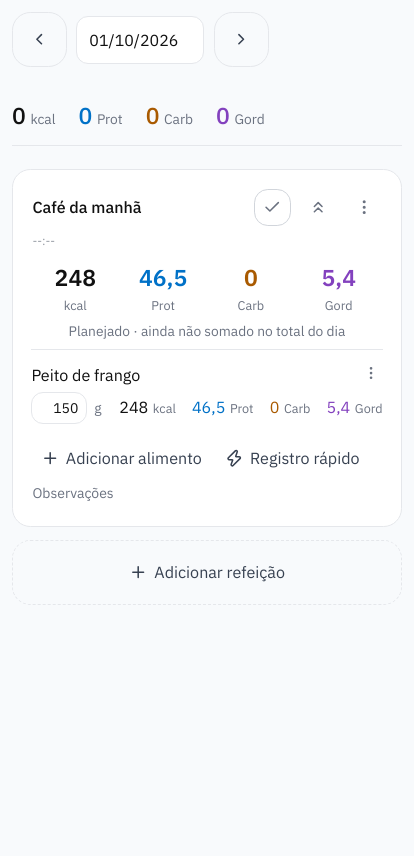
it: a day already started from a diet › explains why the totals read zero, and stops once everything is checked
Check: the field showing "Café da manhã" is shown, box [25,192,251,222]
Check: the text "Planejado · ainda não somado no total do dia" is shown, box [69,322,345,340]
Click the button named "Marcar Café da manhã como comida" at {"x": 272, "y": 207}, box [254,189,291,226]
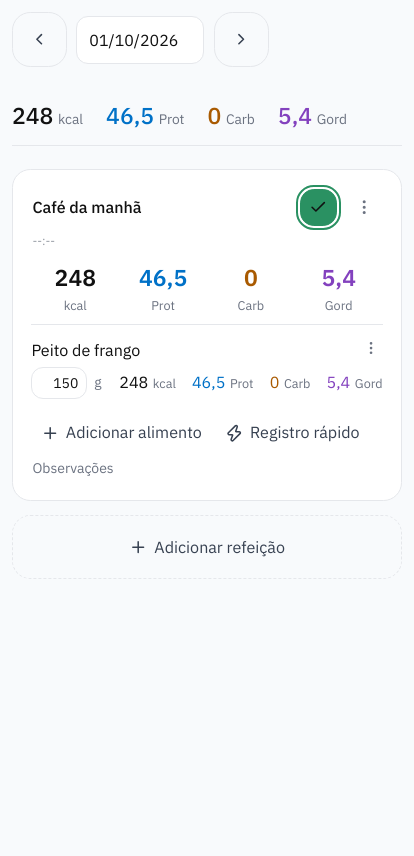
Check: the text "ainda não somado no total do dia" is gone
